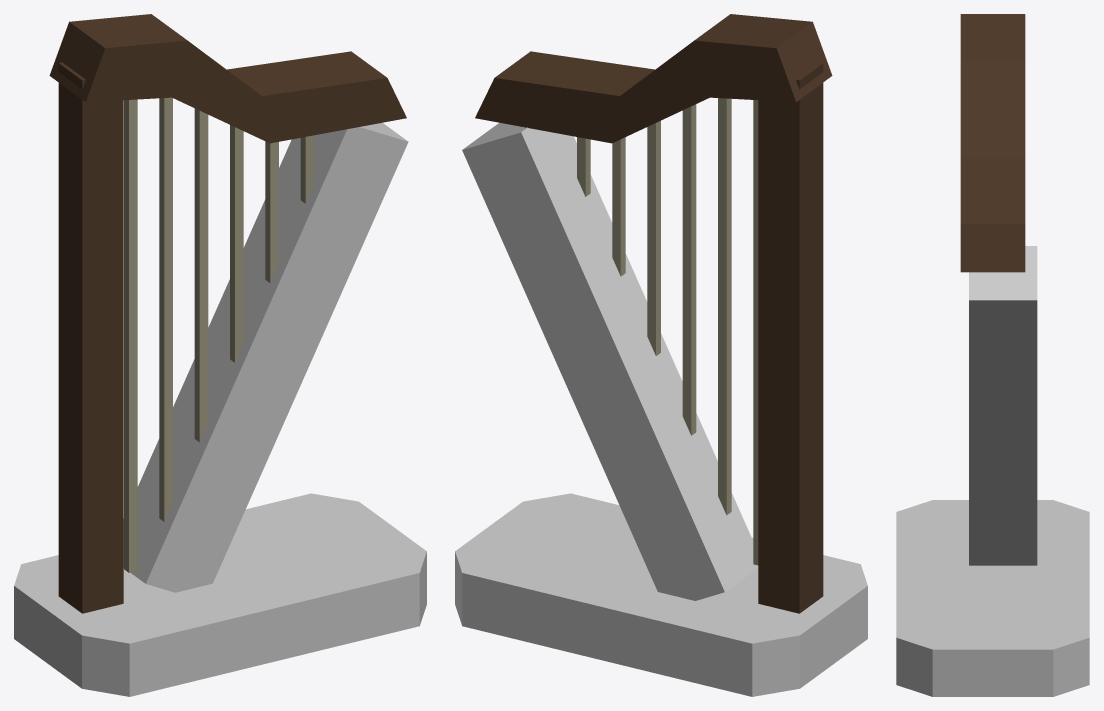
Rendered from harp.obj.
3 renders of one model, left to right at view 1: azimuth 30°, elevation 25°; view 2: azimuth 150°, elevation 25°; view 3: azimuth 270°, elevation 25°, orthographic. The views are drawn at different scales.
Visible parts, largest first — view 1: harp; view 2: harp; view 3: harp.
Boxes of the visible parts, bbox=[...] form: harp: bbox=[14, 14, 426, 696]; harp: bbox=[455, 14, 867, 696]; harp: bbox=[896, 14, 1089, 696].
Size of the model in its own units: 0.8854 by 1.51 by 0.48.
